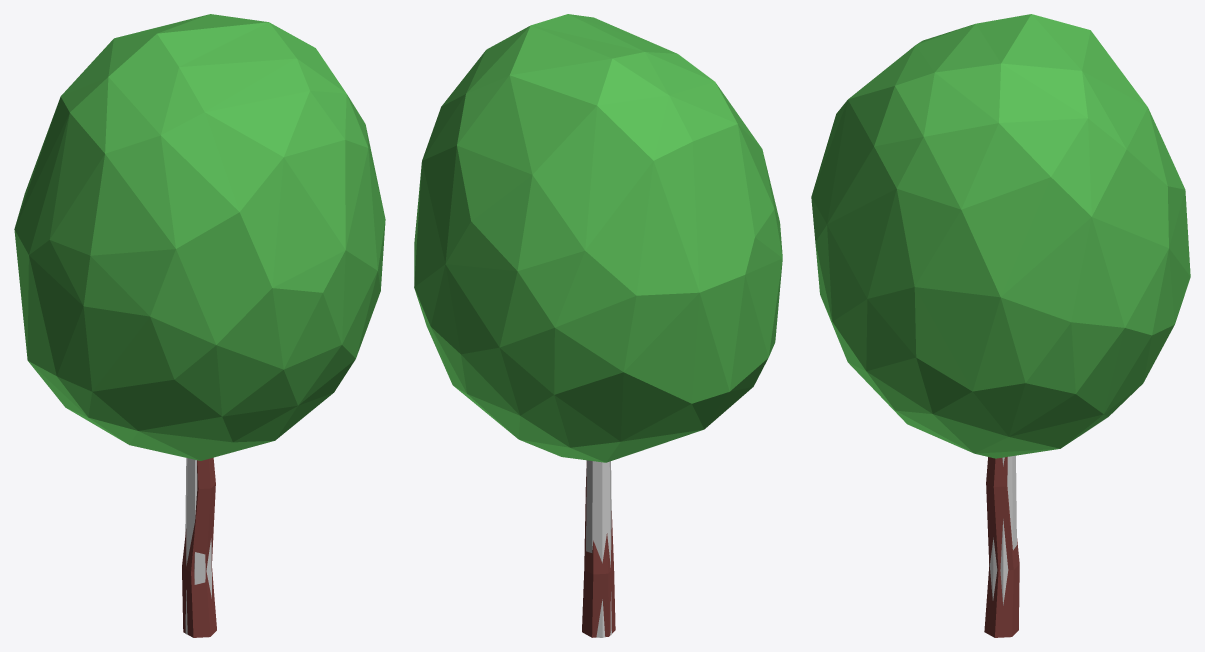
File: floresta_tree_park_medium_green.glb
3 views of the same model, side by side, from view 1: azimuth 30°, elevation 25°; view 2: azimuth 150°, elevation 25°; view 3: azimuth 270°, elevation 25° (orthographic). The views are drawn at different scales.
Visible parts, largest first — view 1: Park tree middle green f, Colisao; view 2: Park tree middle green f, Colisao; view 3: Park tree middle green f, Colisao.
Part boxes in pixels (x1,y1,x2,y2): Park tree middle green f: (14, 14, 385, 637); Colisao: (185, 458, 211, 634); Park tree middle green f: (414, 14, 782, 637); Colisao: (586, 460, 611, 637); Park tree middle green f: (811, 14, 1190, 637); Colisao: (989, 455, 1016, 605).
Size of the model in its own units: 6.9 by 12.14 by 6.92.
